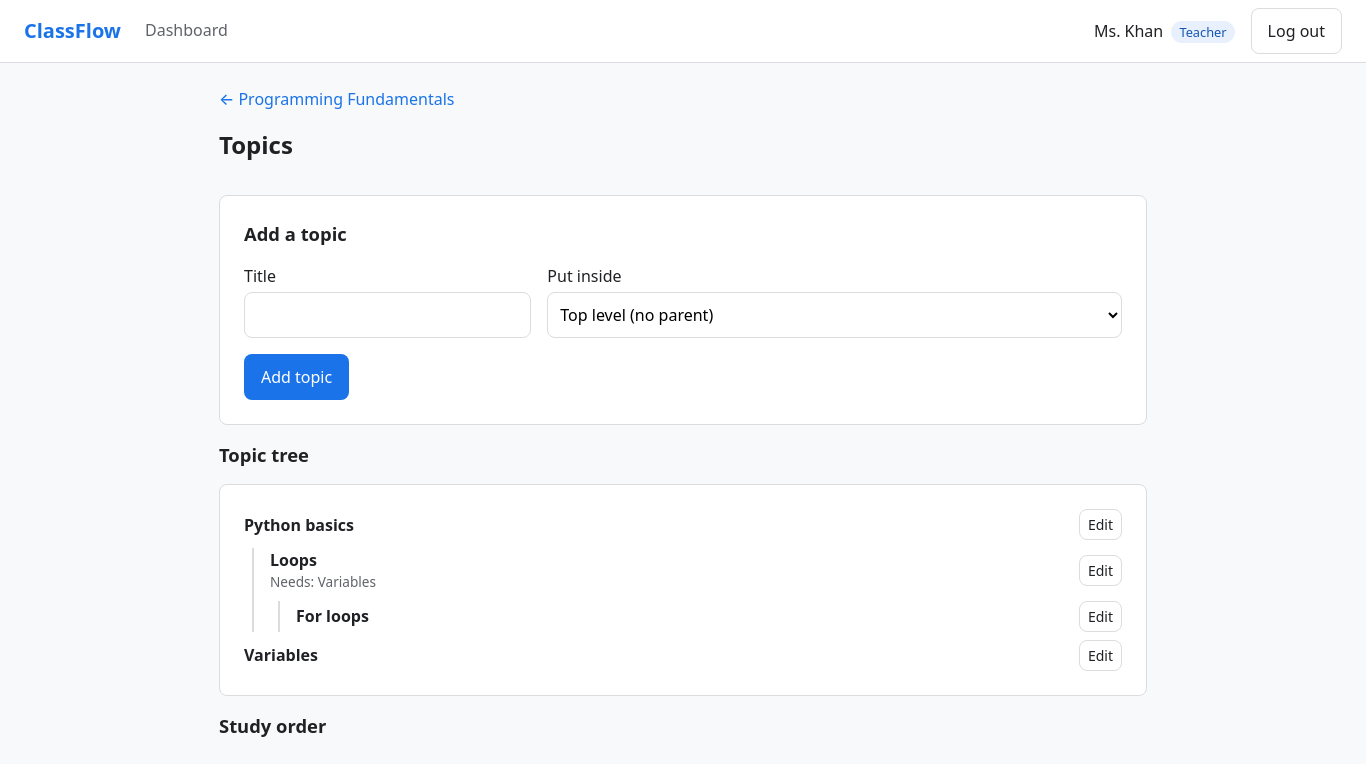
Test case: topics page (teacher) › adds a prerequisite and shows it
The width and height of the screenshot is (1366, 764).
Click the 3rd button "Edit" at (1100, 616), box [1079,601,1122,632]
(page scrolled)
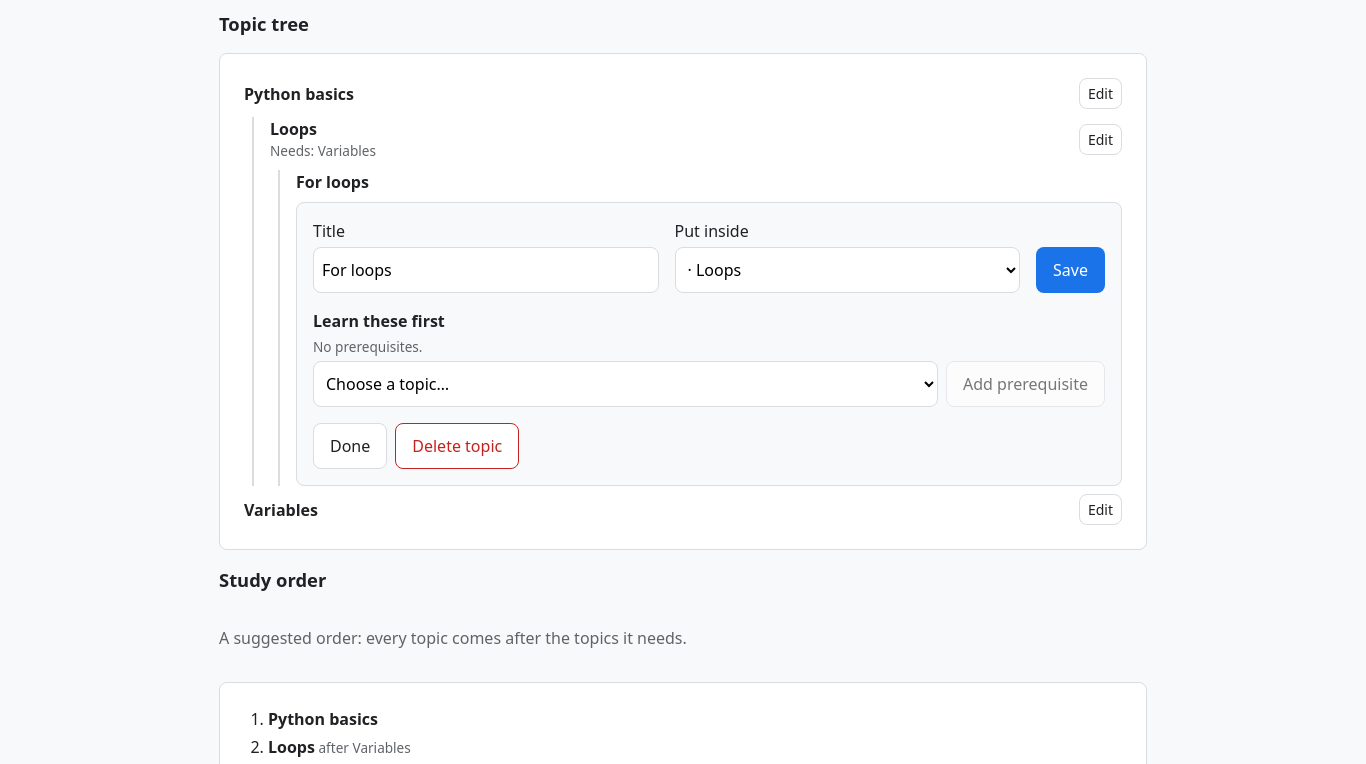
Select "· Loops" in the dropdown named "Prerequisite to add" at (626, 384), box [313,361,938,407]
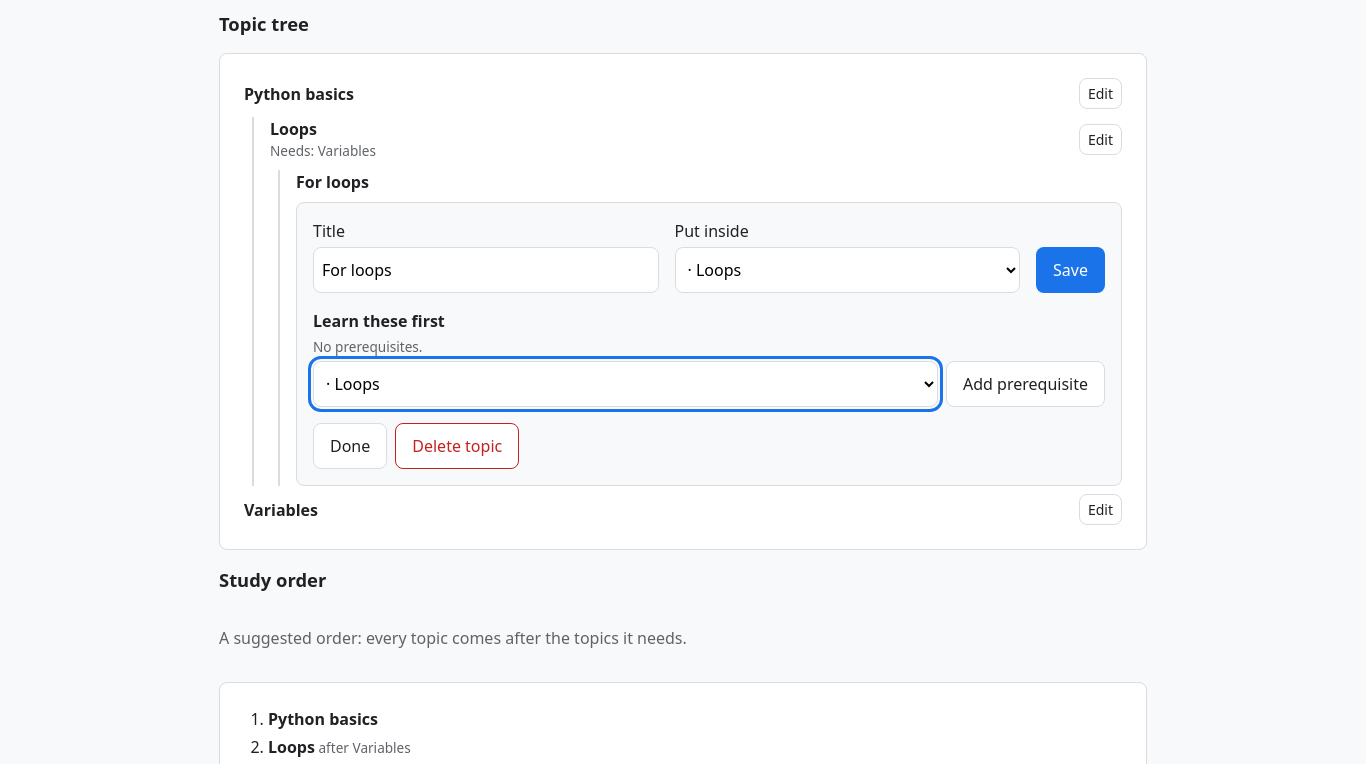
Click the button "Add prerequisite" at (1026, 384), box [946,361,1105,407]
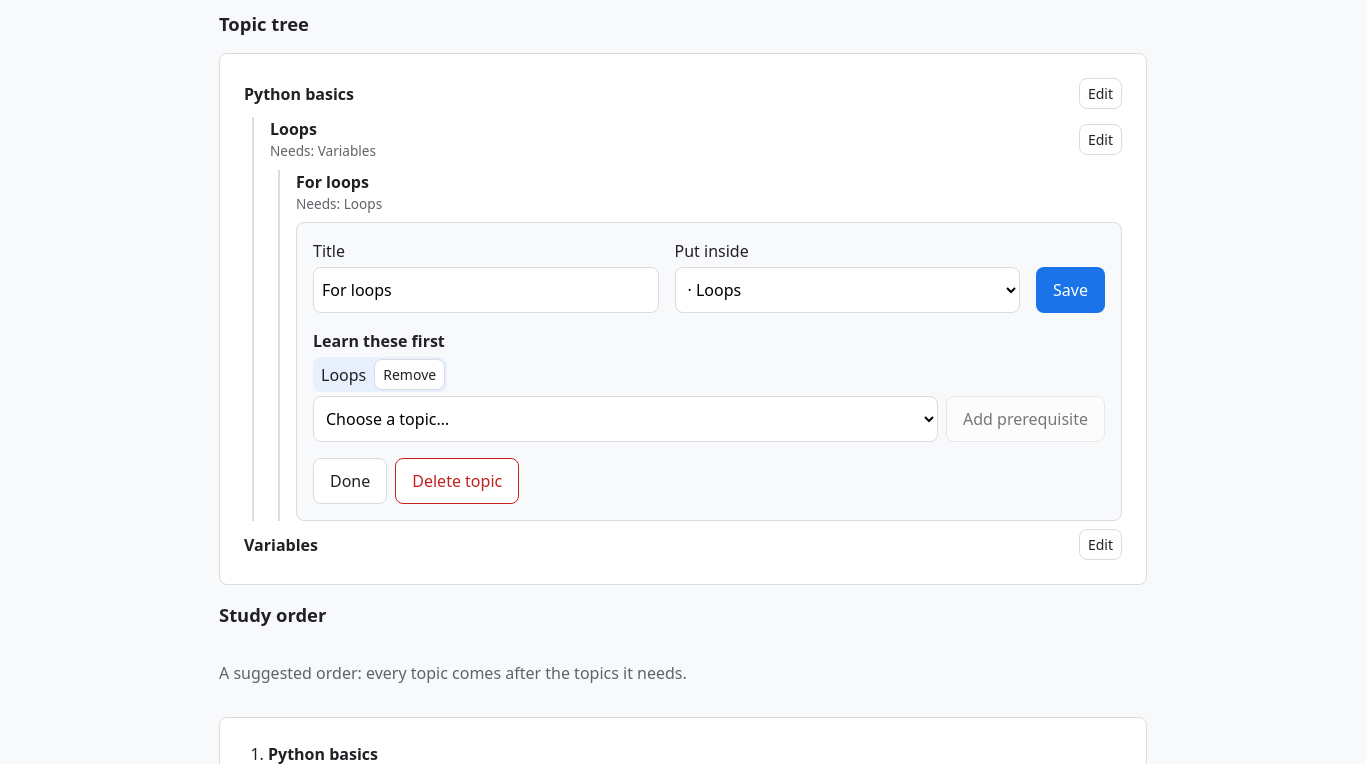
Expected: the button with aria-label "Remove Loops" is shown, [374,359,445,390]
Expected: the text "Needs: Loops" is shown, [296,194,382,214]
